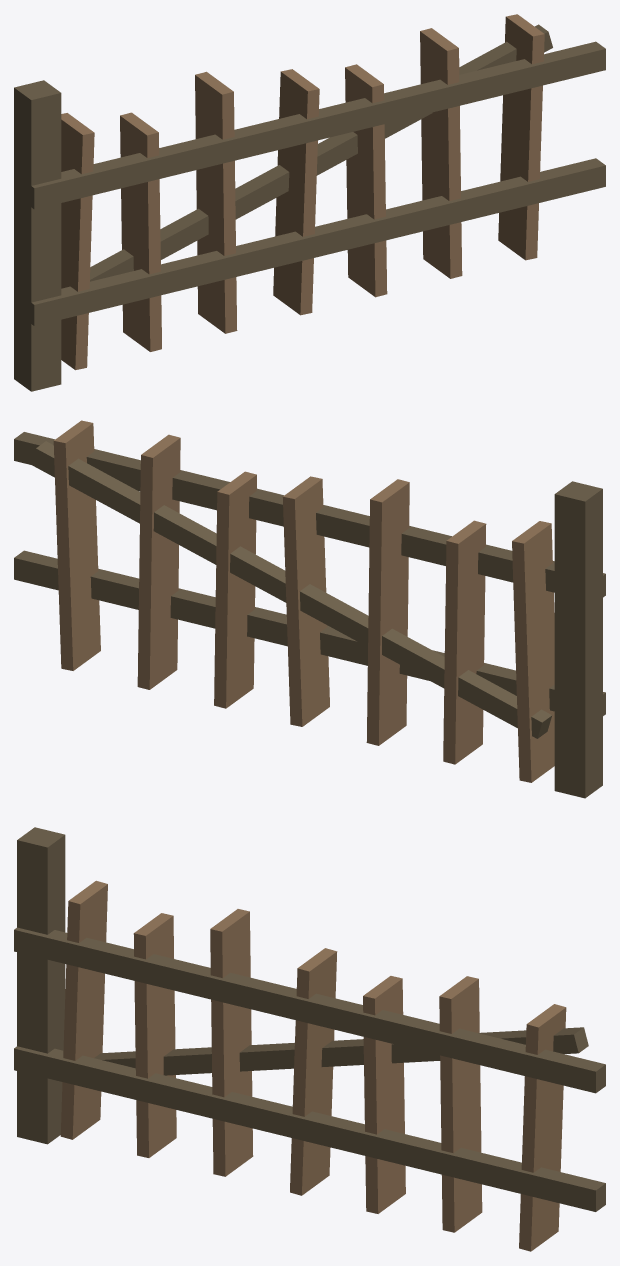
Rendered from ua_valley_gate.obj.
3 renders of one model, top to bottom at view 1: azimuth 30°, elevation 25°; view 2: azimuth 150°, elevation 25°; view 3: azimuth 330°, elevation 25°, orthographic.
Parts seen in each view (by area): view 1: ua_valley_gate; view 2: ua_valley_gate; view 3: ua_valley_gate.
Boxes of the visible parts, bbox=[...] form: ua_valley_gate: bbox=[14, 14, 605, 391]; ua_valley_gate: bbox=[14, 420, 605, 798]; ua_valley_gate: bbox=[14, 827, 605, 1251].
Bounding box in the file's own units: 2.67 × 1.3 × 0.24.
